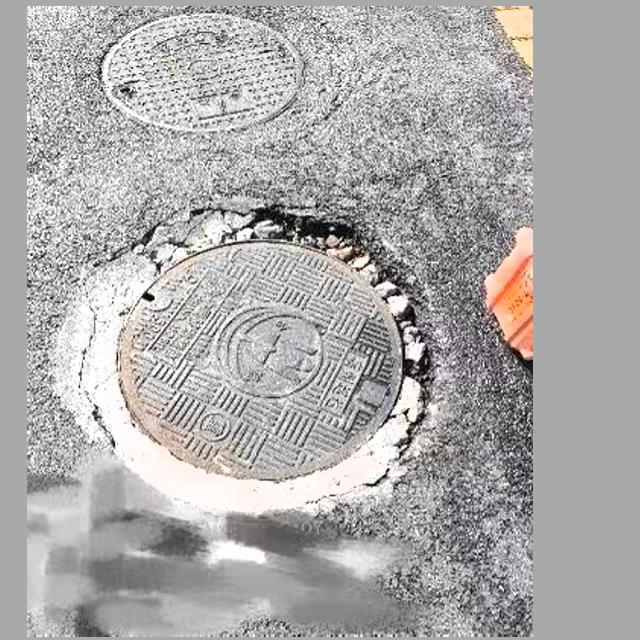circle: (58, 207, 432, 527)
good: (95, 10, 308, 133)
